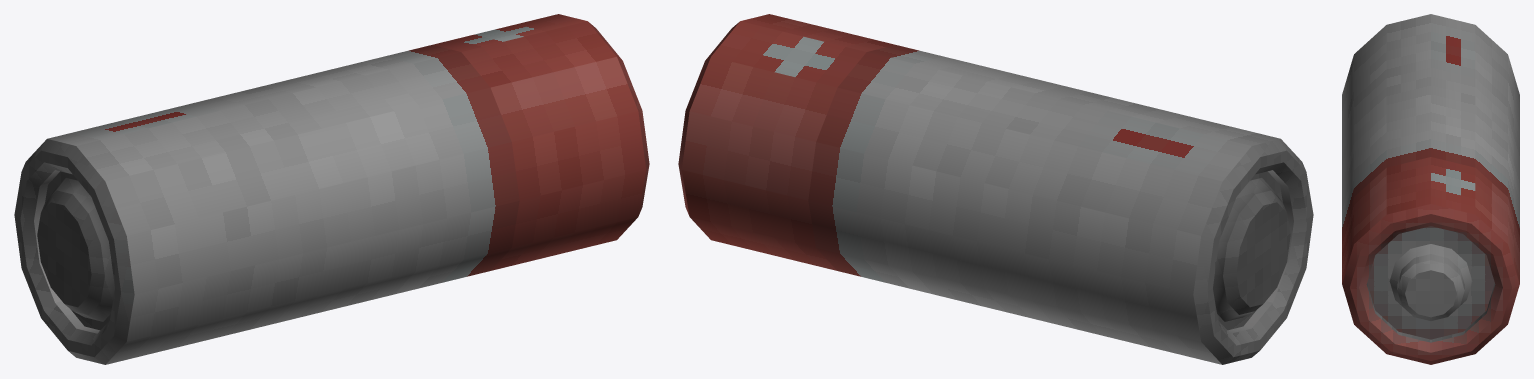
The model's file is battery_3.glb.
3 renders of one model, left to right at view 1: azimuth 30°, elevation 25°; view 2: azimuth 150°, elevation 25°; view 3: azimuth 270°, elevation 25°, orthographic. The views are drawn at different scales.
Visible parts, largest first — view 1: battery_3; view 2: battery_3; view 3: battery_3.
Boxes of the visible parts, left/top/right/bottom form: battery_3: left=14, top=14, right=649, bottom=364; battery_3: left=678, top=14, right=1313, bottom=364; battery_3: left=1342, top=14, right=1519, bottom=364.
Bounding box in the file's own units: 0.0976 × 0.036 × 0.036.
Materials: 1 (1 with a texture image).
